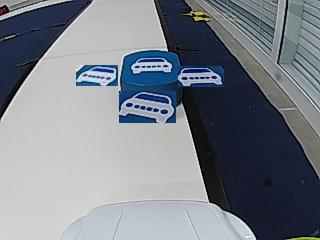safety: (130, 56, 175, 74)
